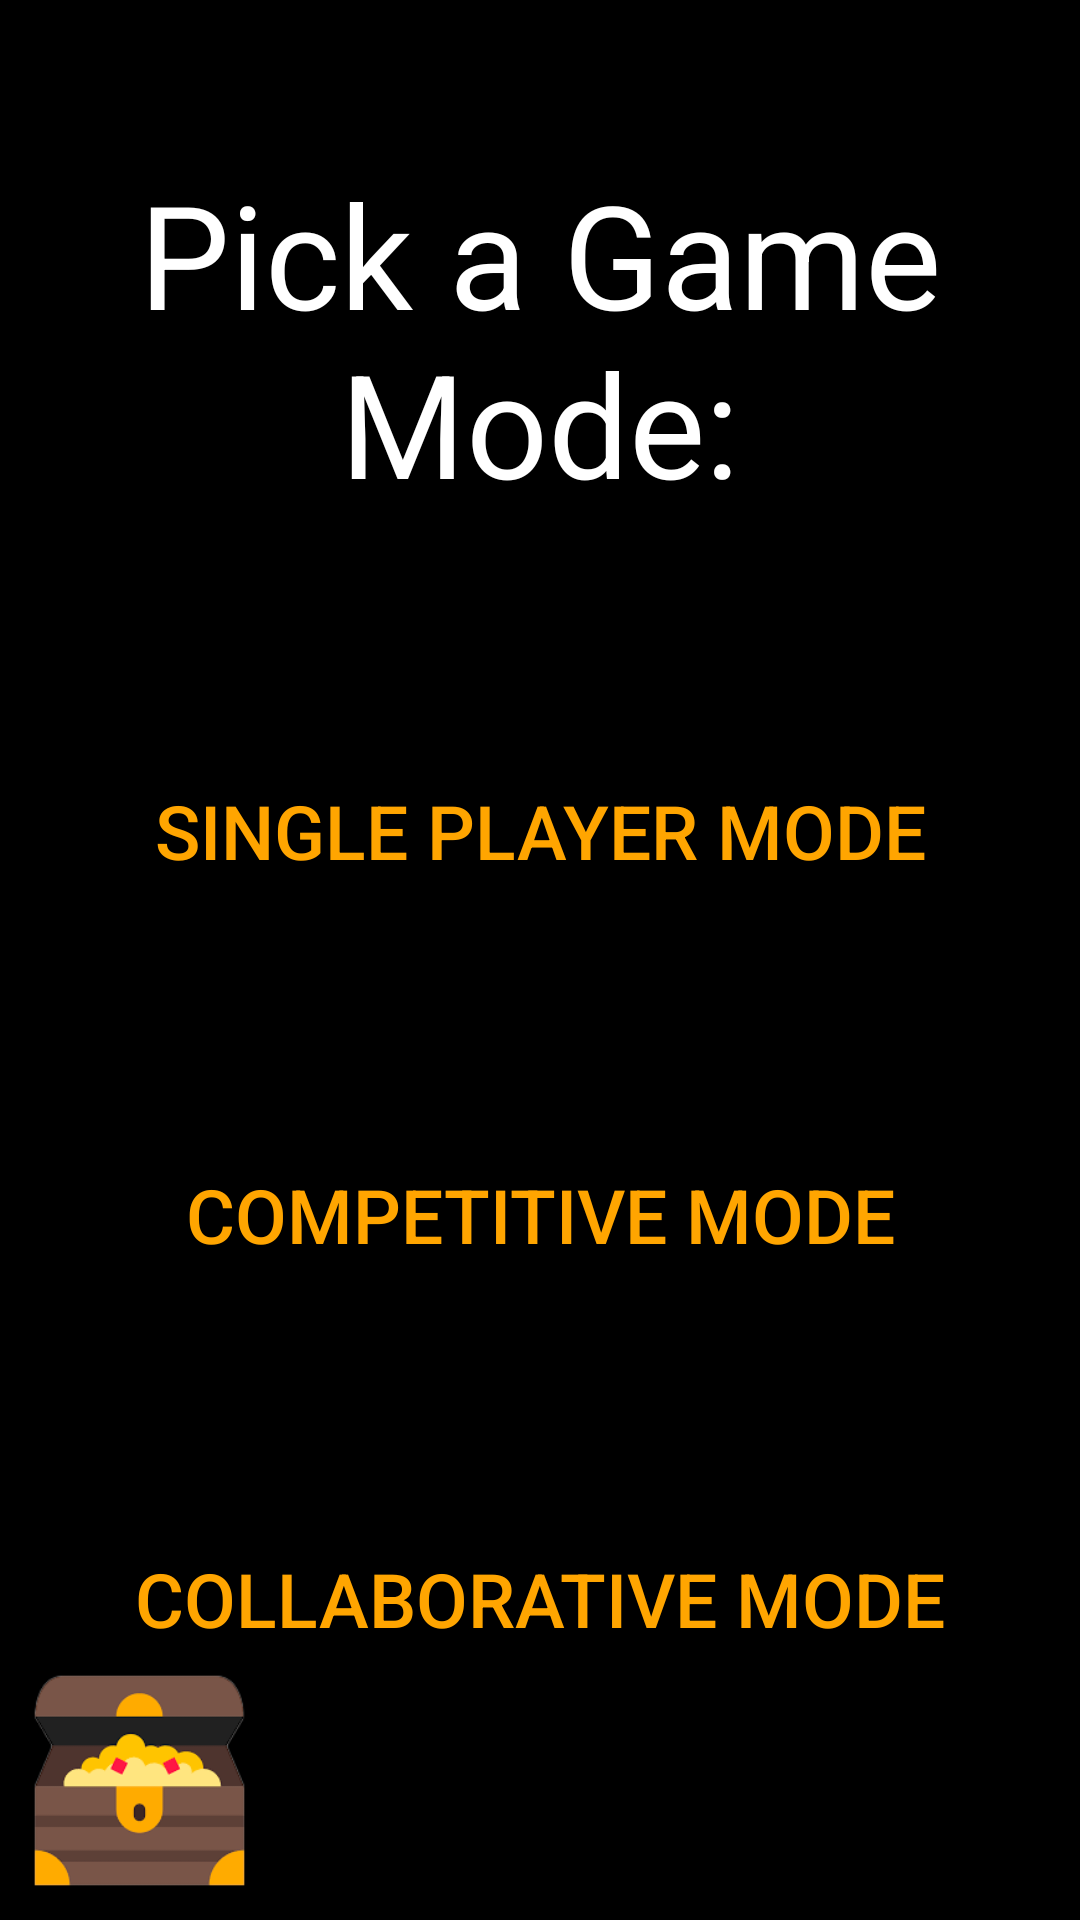

Where to tap for icons on this 1080x1920 app screen, as (x,y):
treasure: (139,1780)
